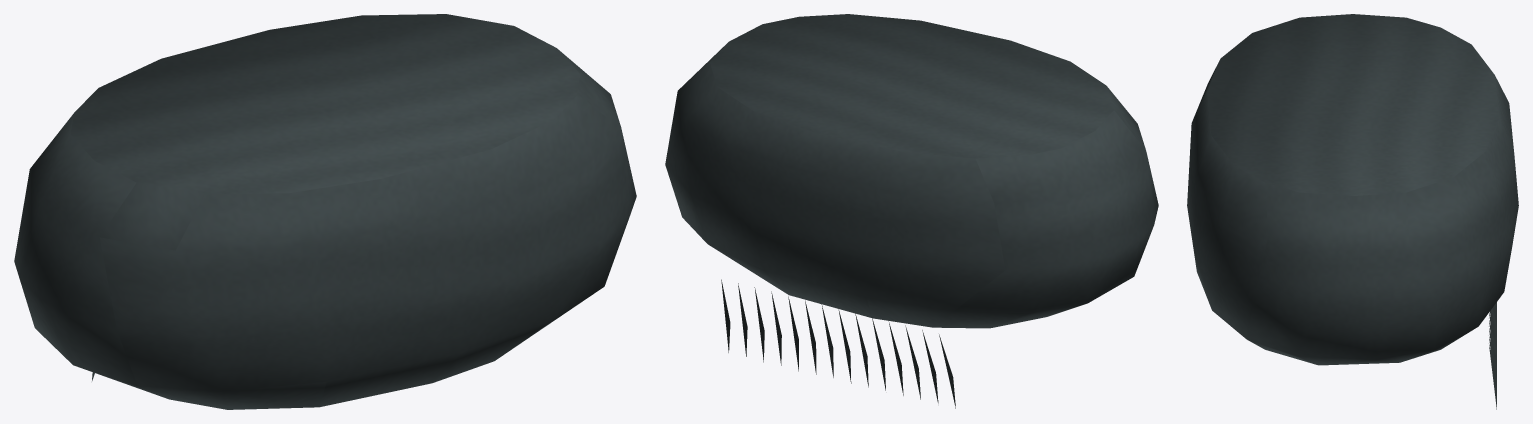
The model's file is hips_lod1.glb.
3 views of the same model, side by side, from view 1: azimuth 30°, elevation 25°; view 2: azimuth 150°, elevation 25°; view 3: azimuth 270°, elevation 25° (orthographic). The views are drawn at different scales.
Parts seen in each view (by area): view 1: dormin_hips_LOD1; view 2: dormin_hips_LOD1; view 3: dormin_hips_LOD1.
Part boxes in pixels (x1=…): dormin_hips_LOD1: x1=14, y1=14, x2=636, y2=409; dormin_hips_LOD1: x1=665, y1=14, x2=1158, y2=408; dormin_hips_LOD1: x1=1187, y1=14, x2=1518, y2=409.
Bounding box in the file's own units: 4.08 × 2.1 × 2.54.
Materials: 1 (1 with a texture image).
